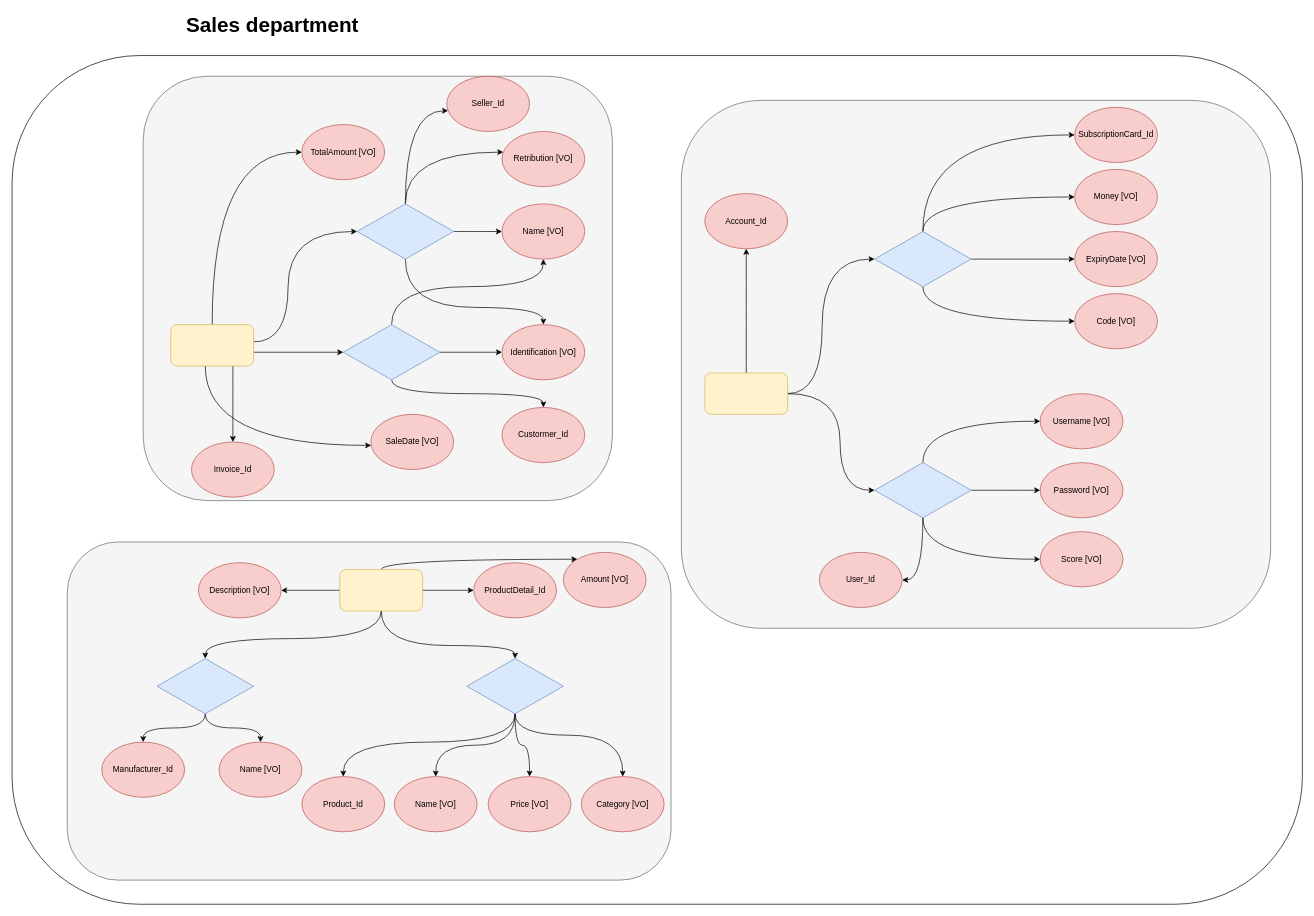
The diagram is 1314 pixels wide and 916 high, and some of its shapes have lost their labels. The shapes that lost their labels are listed below. From the top down, each one's centre as x and y in pixels, then its label:
At point (405, 231): "Seller [E]".
At point (922, 259): "SubscriptionCard [E]".
At point (212, 345): "Invoice [ AR]".
At point (391, 352): "Customer [E]".
At point (746, 393): "Account [ AR]".
At point (922, 490): "User [E]".
At point (381, 590): "ProductDetail [ AR]".
At point (205, 686): "Manufacturer [E]".
At point (514, 686): "Product [E]".
